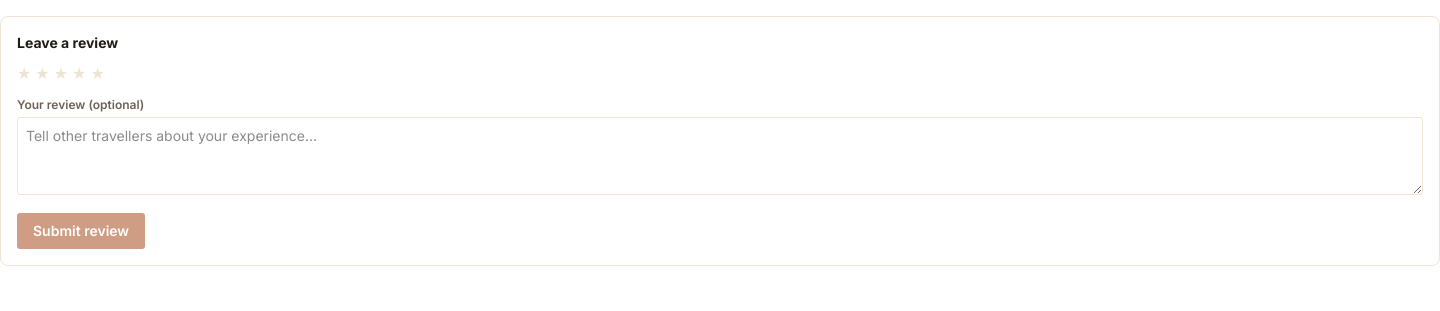
ReviewForm › translates the ALREADY_REVIEWED server error key to t.alreadyReviewed and lets the traveller retry
Click the radio button named "5".
click(98, 73)  # box [90,61,105,85]
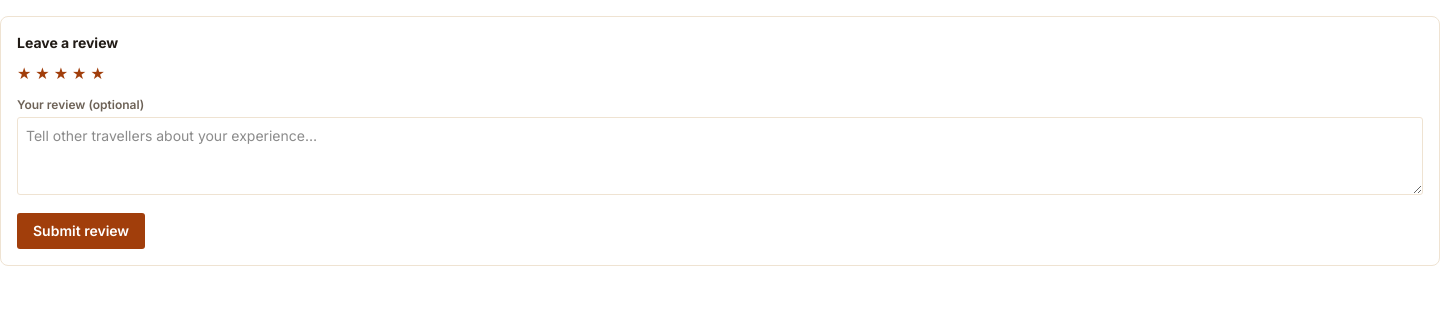
Click the button "Submit review".
click(81, 231)  # box [17,213,145,249]
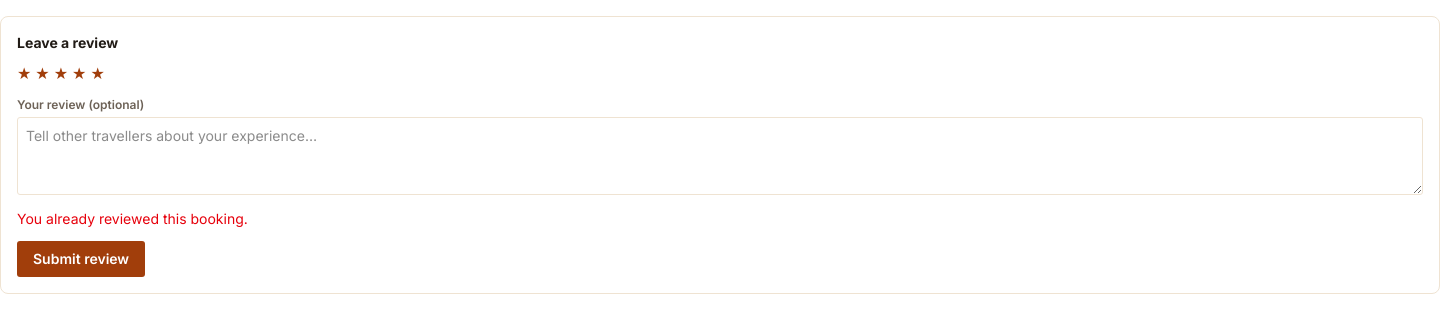
Expected: the text "You already reviewed this booking." is shown, [17,210,248,227]
